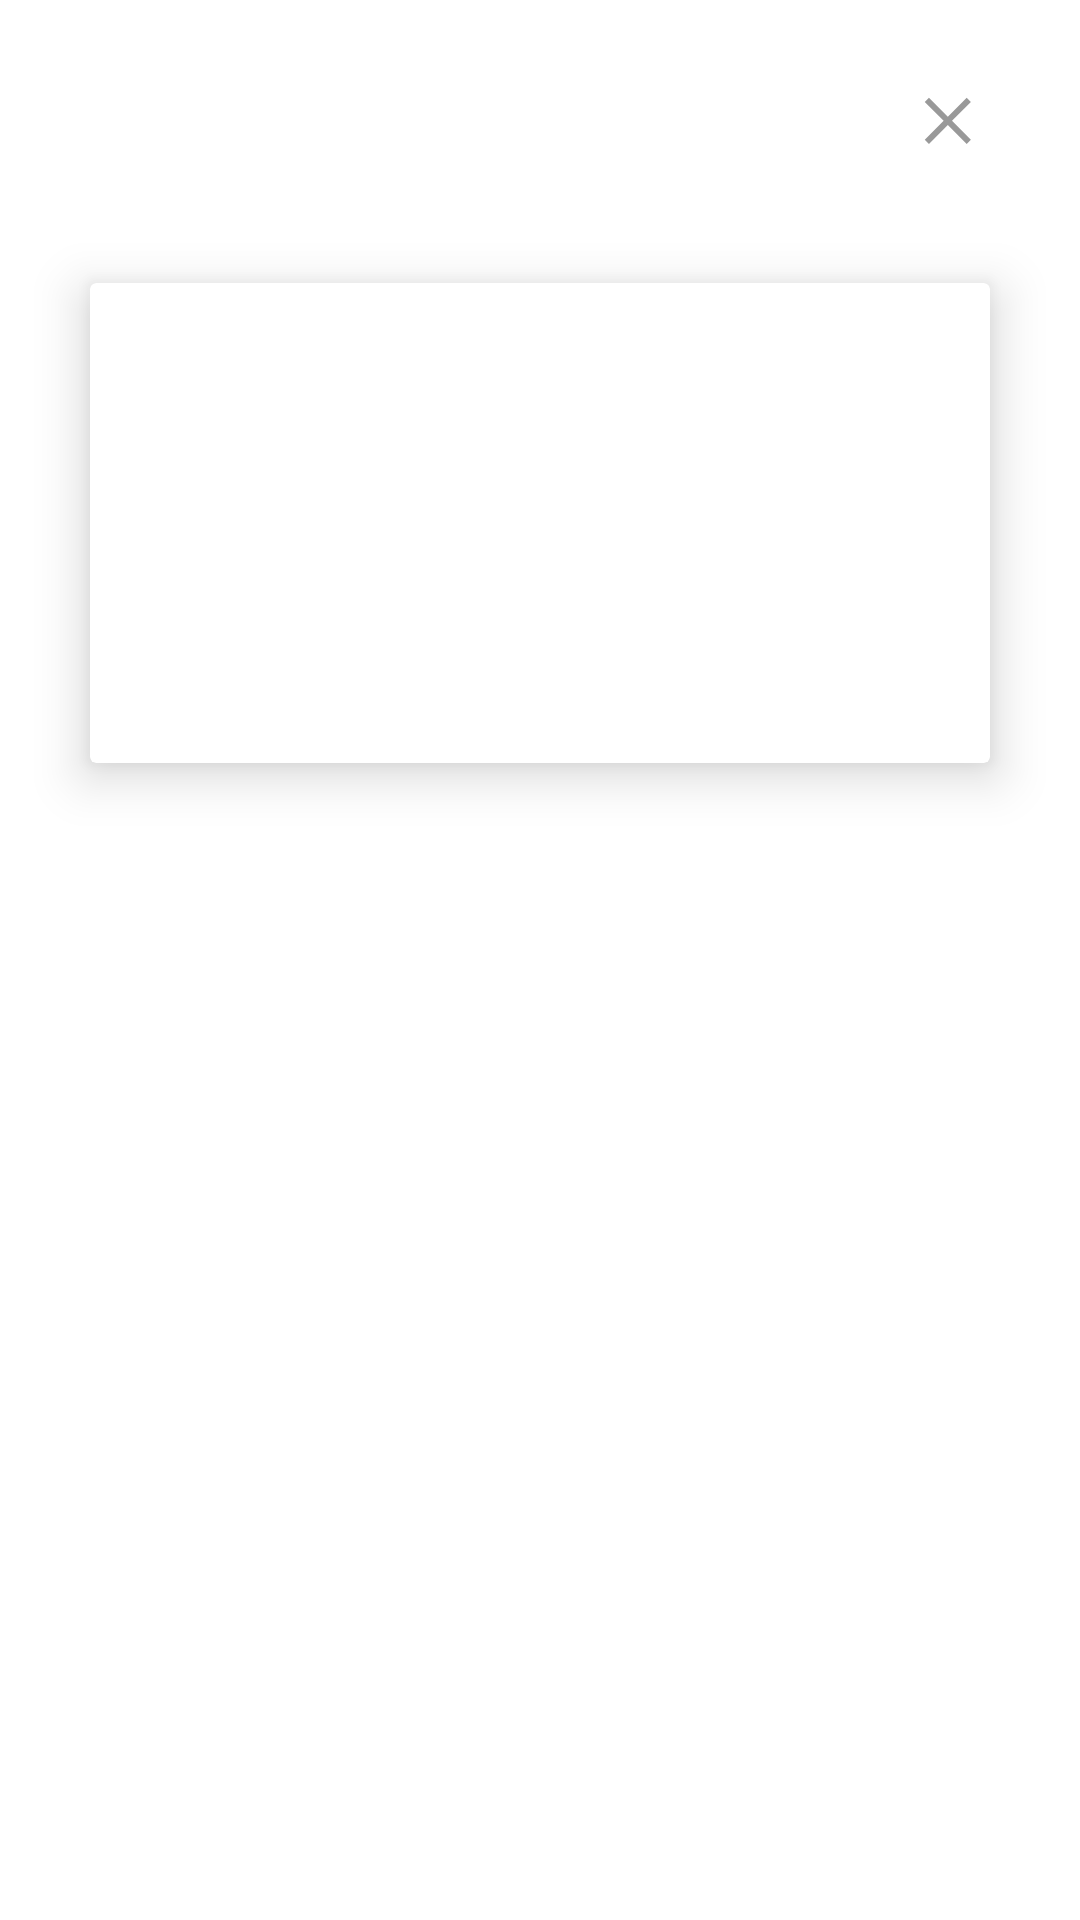

Locate icon controls on the screen. Image size 1080px x 1920px, boxes as (x1, y1, x2, y2).
close: (925, 98, 971, 144)
